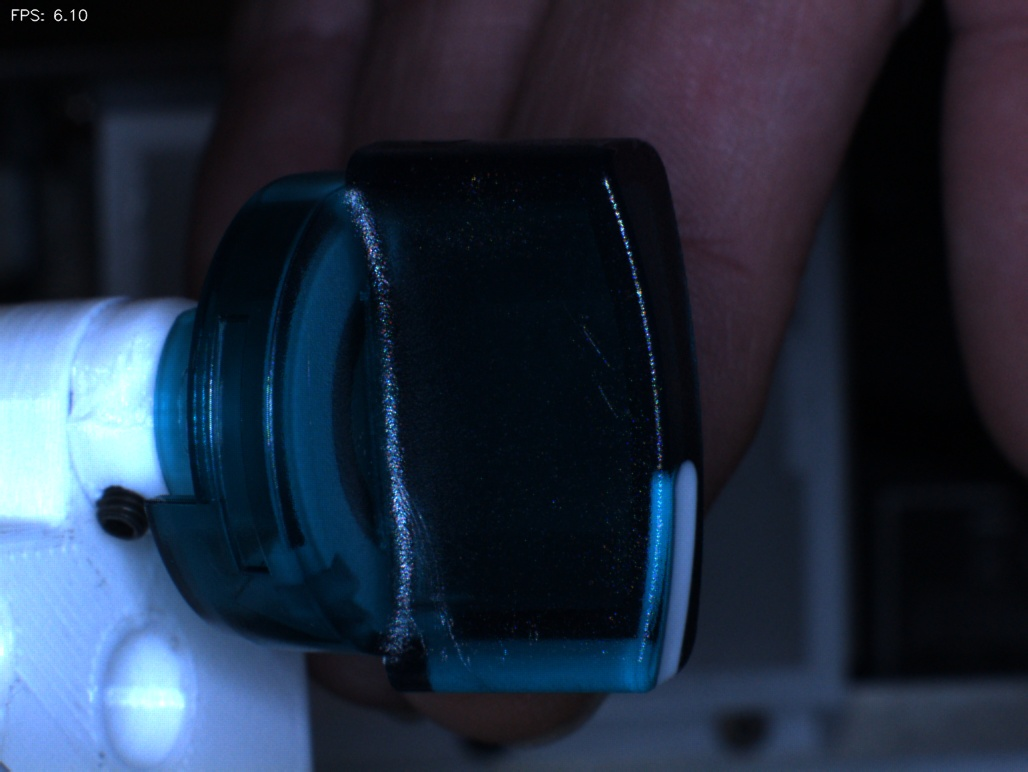Givrage: (393, 480, 479, 681), (566, 304, 632, 453)
